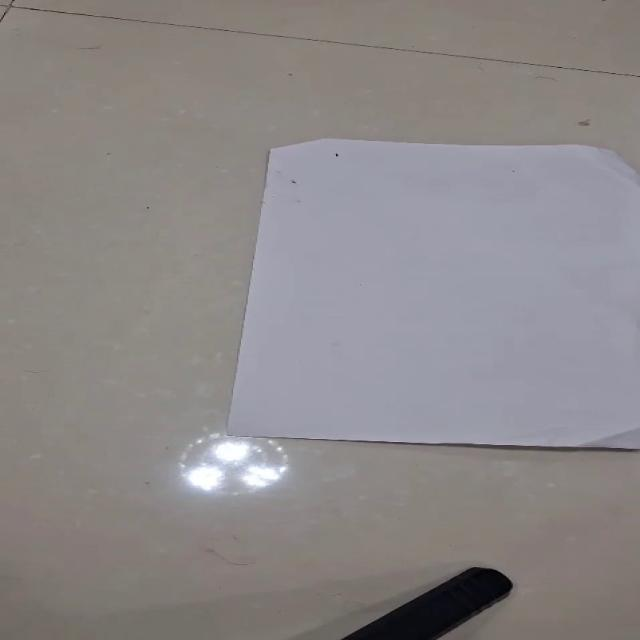paper: (224, 137, 638, 450)
